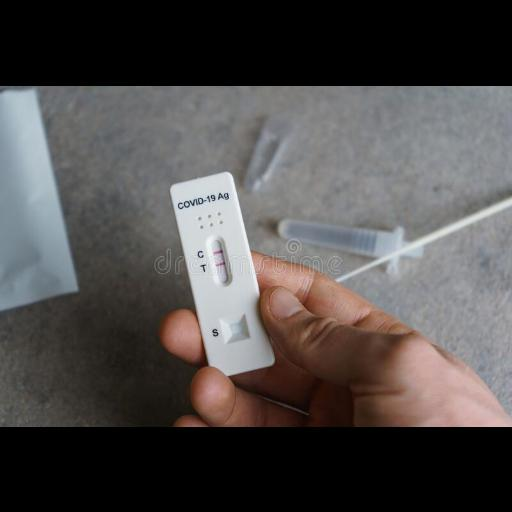Pos: (170, 171, 275, 379)
